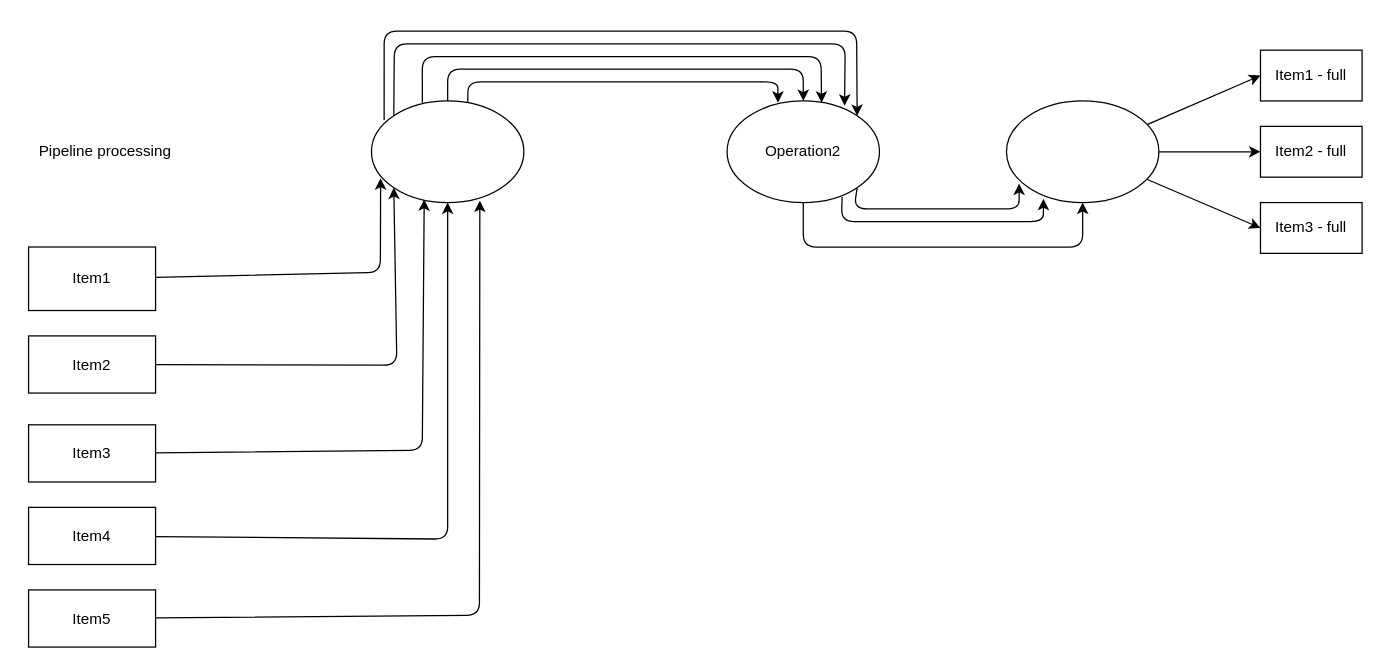
Some shapes in this 1384 by 669 pixel diagram are drawn without their labels. The shapes that lost their labels are listed below. From the top down, each one's centre as x and y in pixels, then its label:
At pixel 447 151: "Operation1".
At pixel 1082 151: "Operation3".
